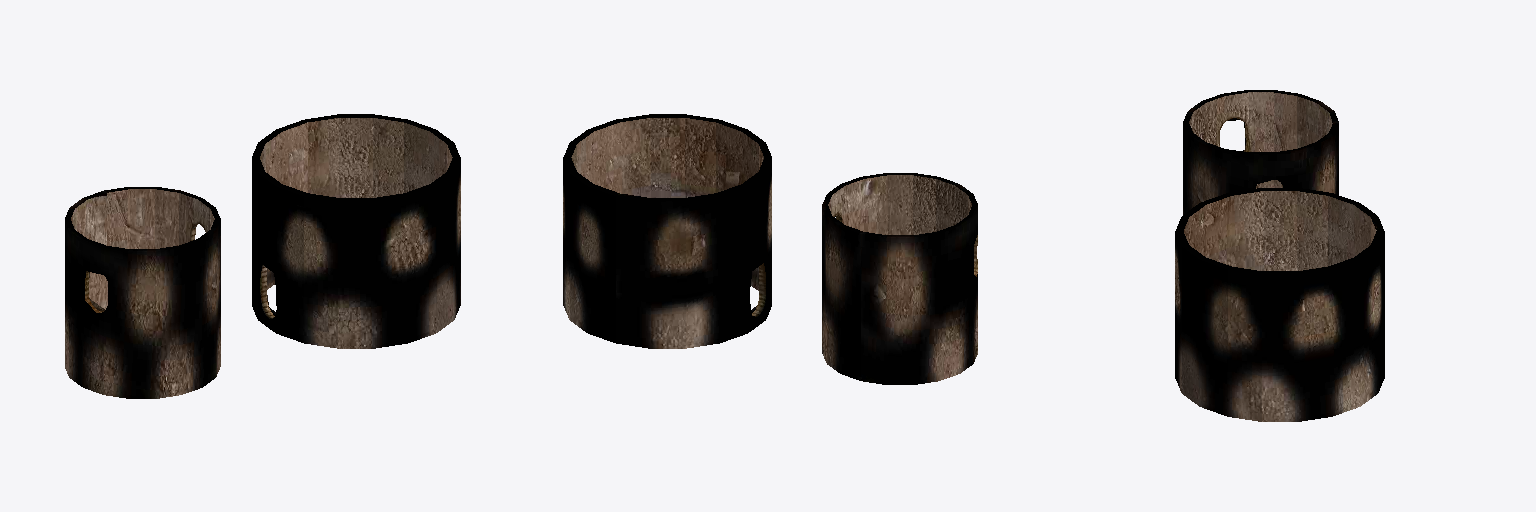
The picture shows the model from 3 angles: view 1: azimuth 30°, elevation 25°; view 2: azimuth 150°, elevation 25°; view 3: azimuth 270°, elevation 25°; orthographic projection.
Parts seen in each view (by area): view 1: Tube001, Tube002; view 2: Tube001, Tube002; view 3: Tube001, Tube002.
Boxes of the visible parts, x1=… form: Tube001: x1=252, y1=114, x2=460, y2=348; Tube002: x1=65, y1=187, x2=220, y2=398; Tube001: x1=563, y1=114, x2=771, y2=348; Tube002: x1=822, y1=173, x2=977, y2=384; Tube001: x1=1175, y1=188, x2=1384, y2=421; Tube002: x1=1183, y1=90, x2=1338, y2=214.
Bounding box in the file's own units: 36.88 × 13.71 × 17.64.
1 materials, 1 textured.